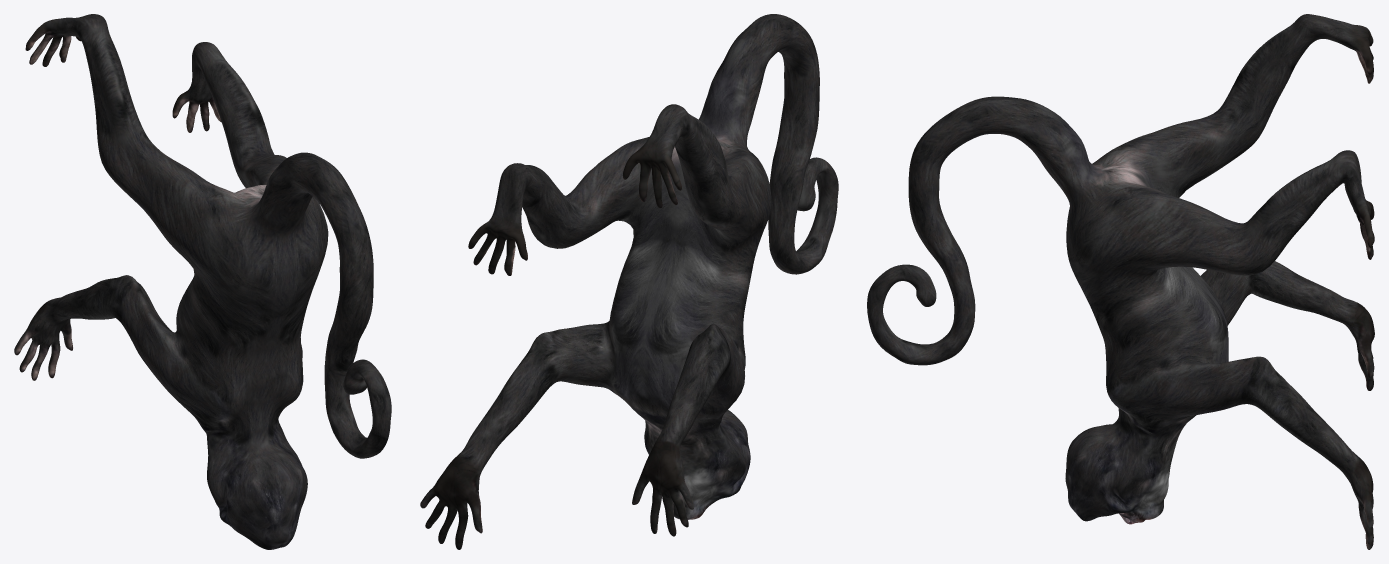
File: spider_monkey.obj
3 views of the same model, side by side, from view 1: azimuth 30°, elevation 25°; view 2: azimuth 150°, elevation 25°; view 3: azimuth 270°, elevation 25° (orthographic). The views are drawn at different scales.
Visible parts, largest first — view 1: 12958_Spider_Monkey; view 2: 12958_Spider_Monkey; view 3: 12958_Spider_Monkey.
Part boxes in pixels (x1=…): 12958_Spider_Monkey: x1=14, y1=14, x2=391, y2=549; 12958_Spider_Monkey: x1=420, y1=14, x2=838, y2=549; 12958_Spider_Monkey: x1=867, y1=14, x2=1374, y2=549.
Bounding box in the file's own units: 52.26 × 91.02 × 88.5.
Materials: 1 (1 with a texture image).
